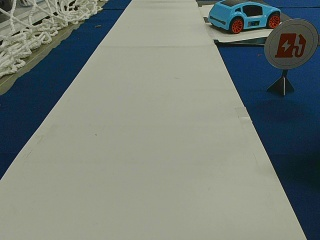battery: (265, 17, 316, 70)
car: (209, 2, 282, 33)
